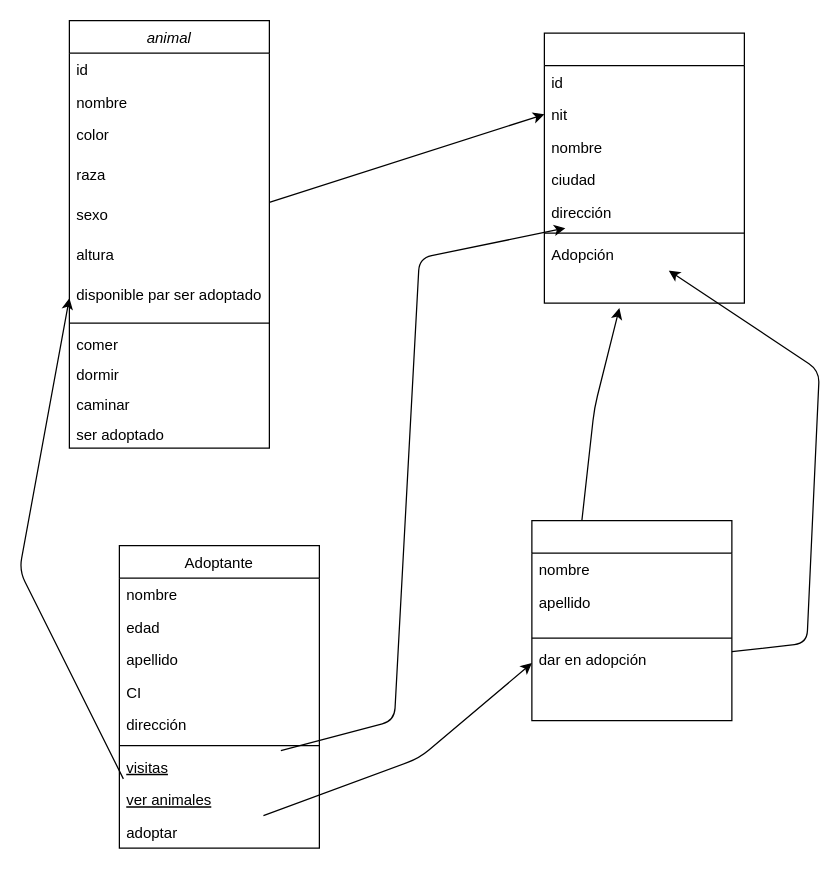
The diagram is 840 pixels wide and 869 high, and some of its shapes have lost their labels. Each missing label, with the box of its shape:
Centro de Adopción: (543, 32, 744, 303)
Encargado: (531, 519, 732, 721)
